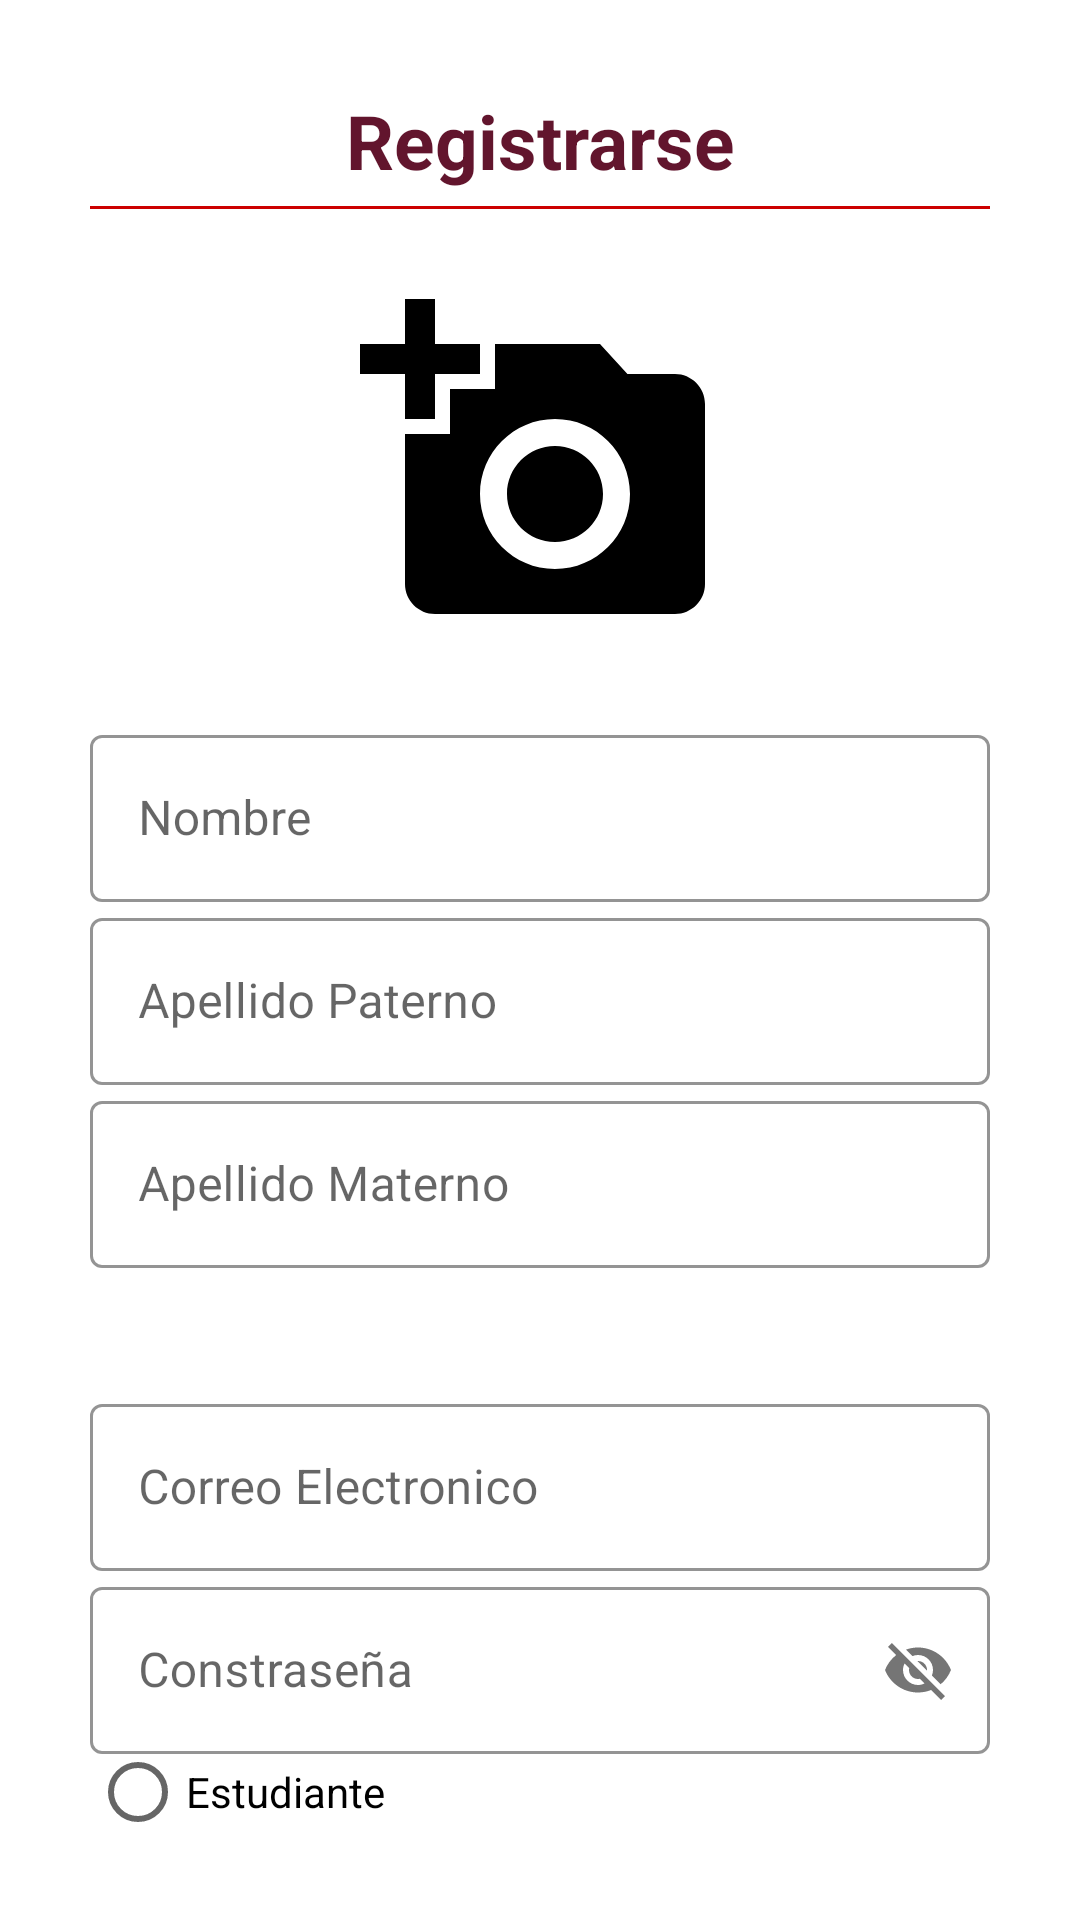

Locate icon controls on the screen. Image size 1080w x 1920h, boxes as [x1=x1, y1=y1, x2=x2, y2=y2].
add foto usuario: [x1=360, y1=299, x2=705, y2=614]
